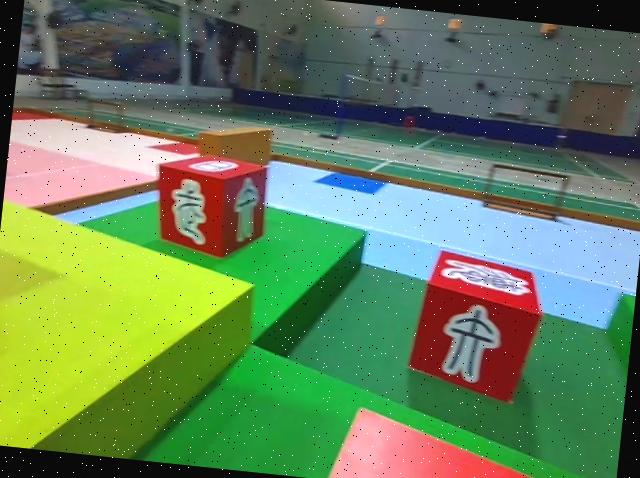R2 Fake: (408, 246, 548, 406), (149, 149, 271, 262)
